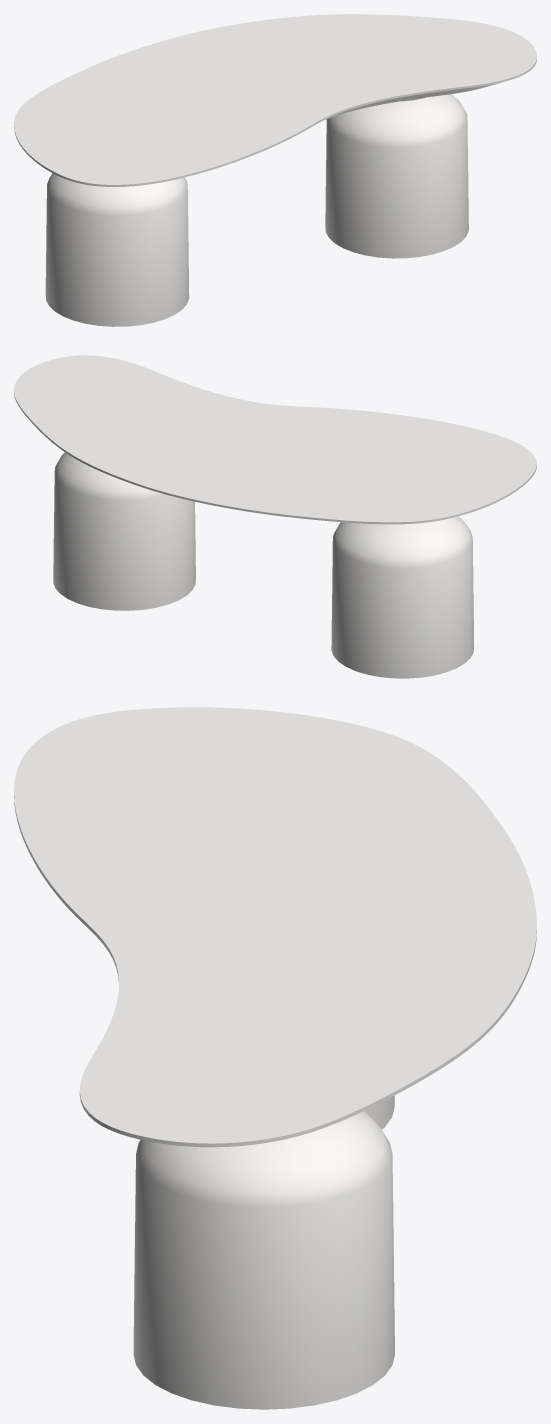
File: purewhite_leaf1_facet_tornado.glb
3 views of the same model, one above another, from view 1: azimuth 30°, elevation 25°; view 2: azimuth 150°, elevation 25°; view 3: azimuth 270°, elevation 25° (orthographic). The views are drawn at different scales.
Visible parts, largest first — view 1: facet_leaf1, tornado; view 2: facet_leaf1, tornado; view 3: facet_leaf1, tornado.
Boxes of the visible parts, x1,y1,x2,y2 form: facet_leaf1: (14, 14, 536, 186); tornado: (45, 94, 468, 326); facet_leaf1: (14, 355, 536, 524); tornado: (53, 452, 474, 678); facet_leaf1: (14, 707, 536, 1147); tornado: (133, 1095, 394, 1409).
Bounding box in the file's own units: 7.5 × 2.5 × 3.8.
1 material, 1 textured.
